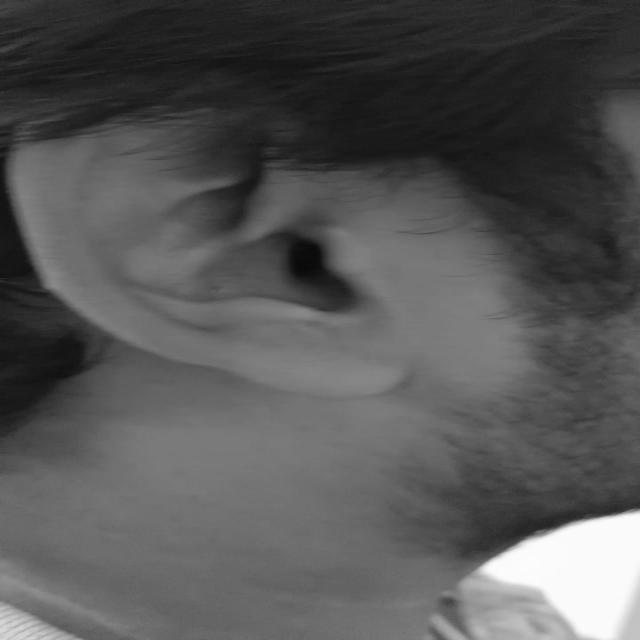ear: (6, 125, 405, 396)
